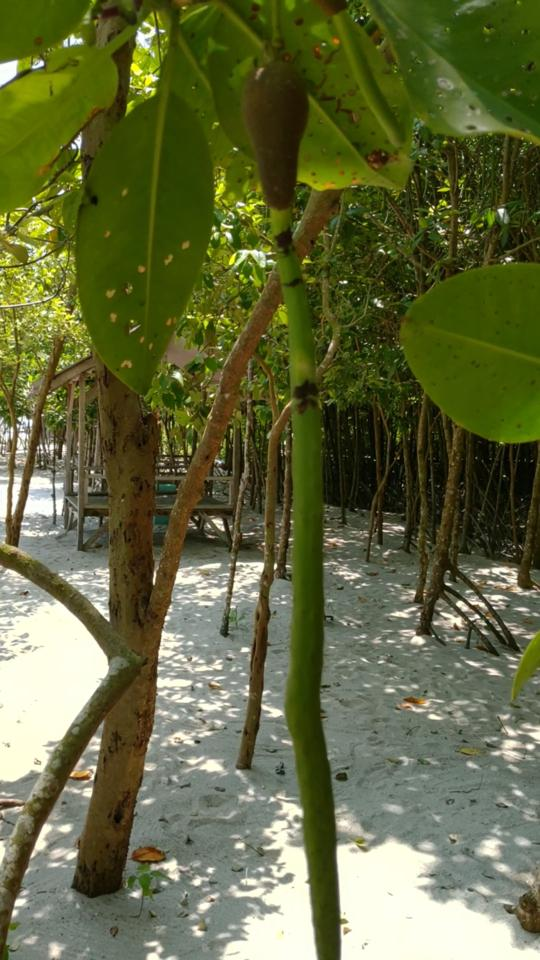mentah: (226, 23, 368, 951)
